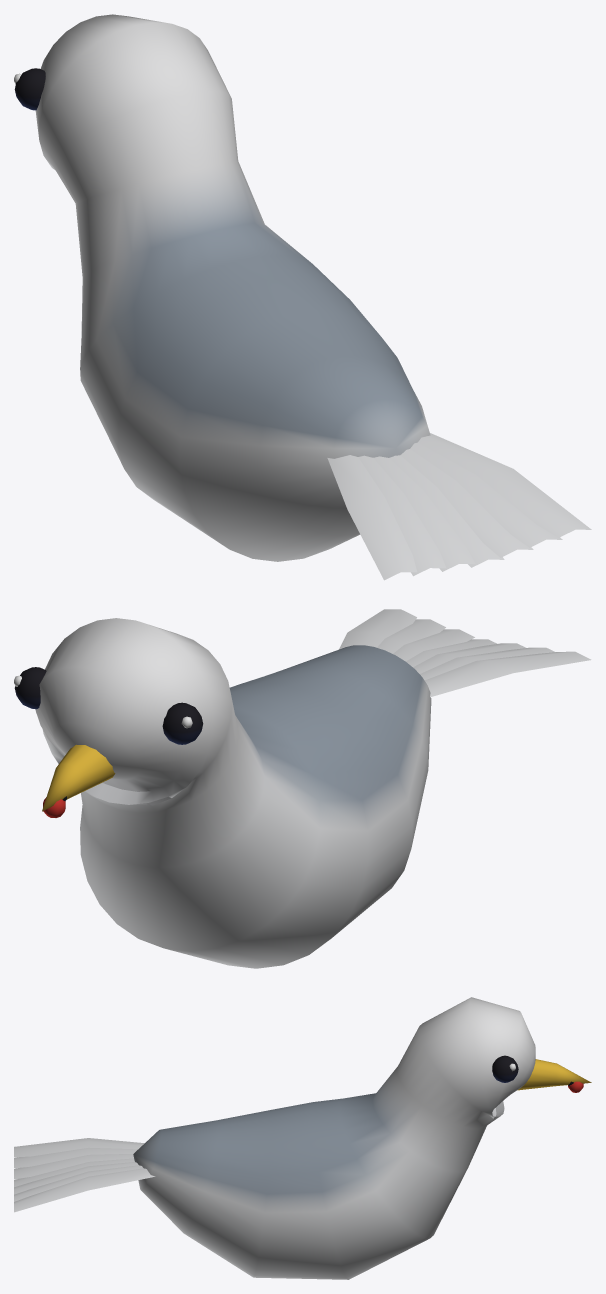
Rendered from Kamome_Body.fbx.
The picture shows the model from 3 angles, top to bottom: view 1: azimuth 30°, elevation 25°; view 2: azimuth 150°, elevation 25°; view 3: azimuth 270°, elevation 25°; orthographic projection. The views are drawn at different scales.
Parts seen in each view (by area): view 1: Kamome_Body; view 2: Kamome_Body; view 3: Kamome_Body.
Boxes of the visible parts, x1,y1,x2,y2 form: Kamome_Body: [14, 14, 591, 580]; Kamome_Body: [14, 609, 591, 968]; Kamome_Body: [14, 997, 591, 1279].
Bounding box in the file's own units: 5.7 × 9.01 × 17.67.
